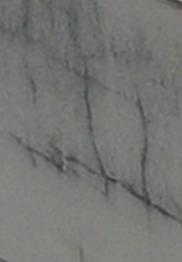fissura: (3, 0, 156, 243)
